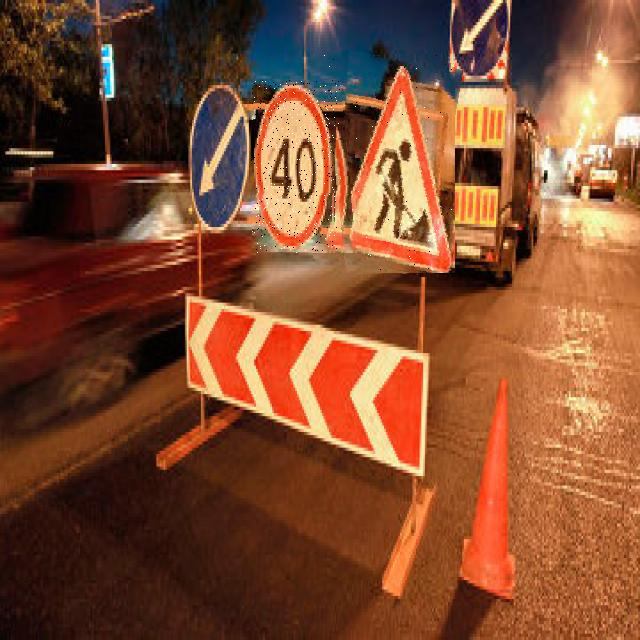roadwork: (322, 54, 455, 273)
speed limit 40: (252, 80, 337, 253)
